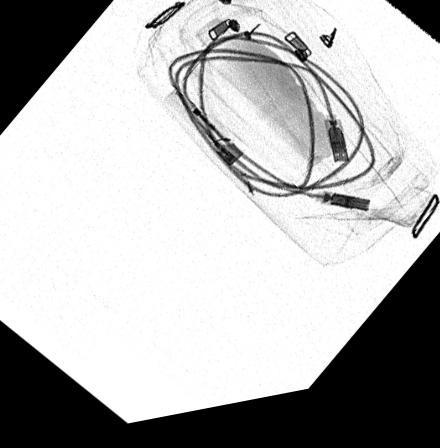Lighter: (163, 92, 243, 174)
